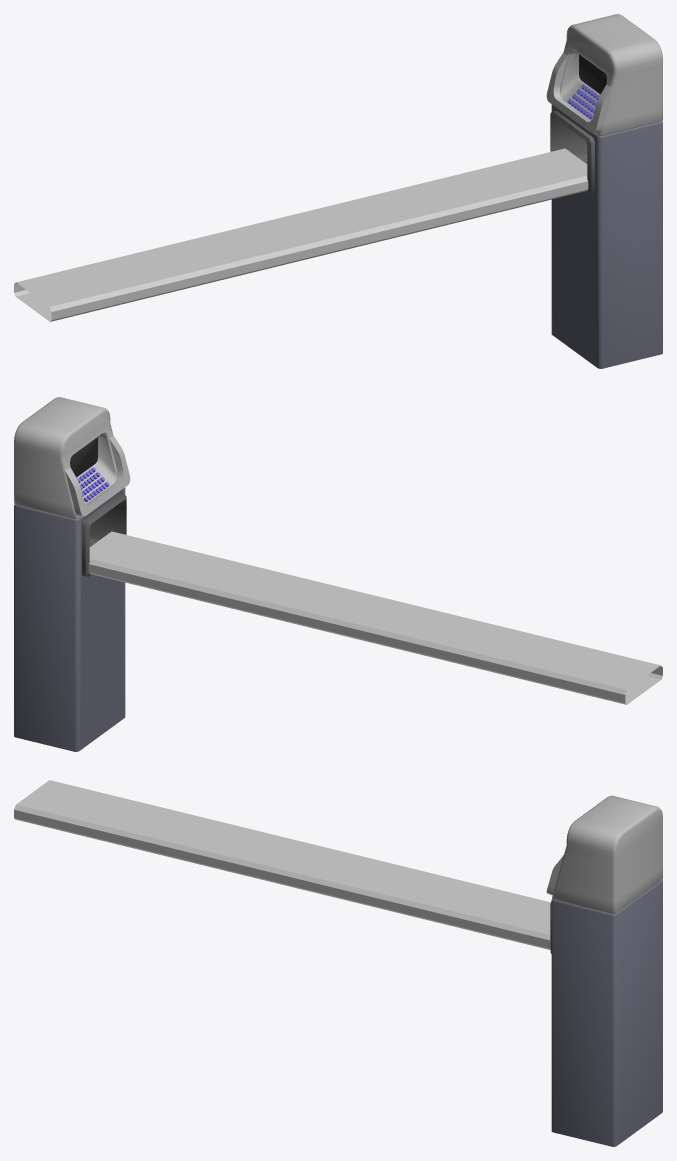
Rendered from levelEnd.fbx.
3 renders of one model, top to bottom at view 1: azimuth 30°, elevation 25°; view 2: azimuth 150°, elevation 25°; view 3: azimuth 330°, elevation 25°, orthographic.
Parts seen in each view (by area): view 1: Cube.023, side.002; view 2: Cube.023, side.002; view 3: Cube.023, side.002.
Part boxes in pixels (box(x1,y1,x2,y2)): Cube.023: box(546, 14, 662, 368); side.002: box(14, 148, 588, 321); Cube.023: box(14, 397, 130, 751); side.002: box(88, 531, 662, 704); Cube.023: box(546, 795, 662, 1146); side.002: box(14, 780, 550, 949).
Size of the model in its own units: 12.15 by 5.92 by 1.71.
